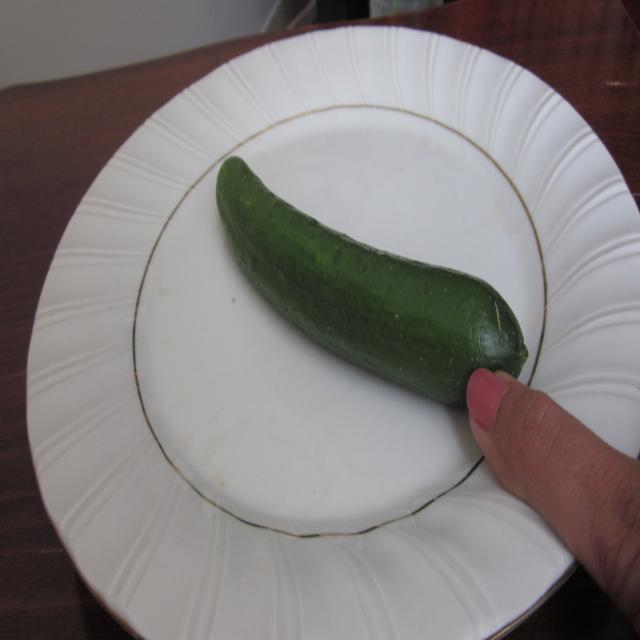cucumber: (180, 149, 534, 420)
